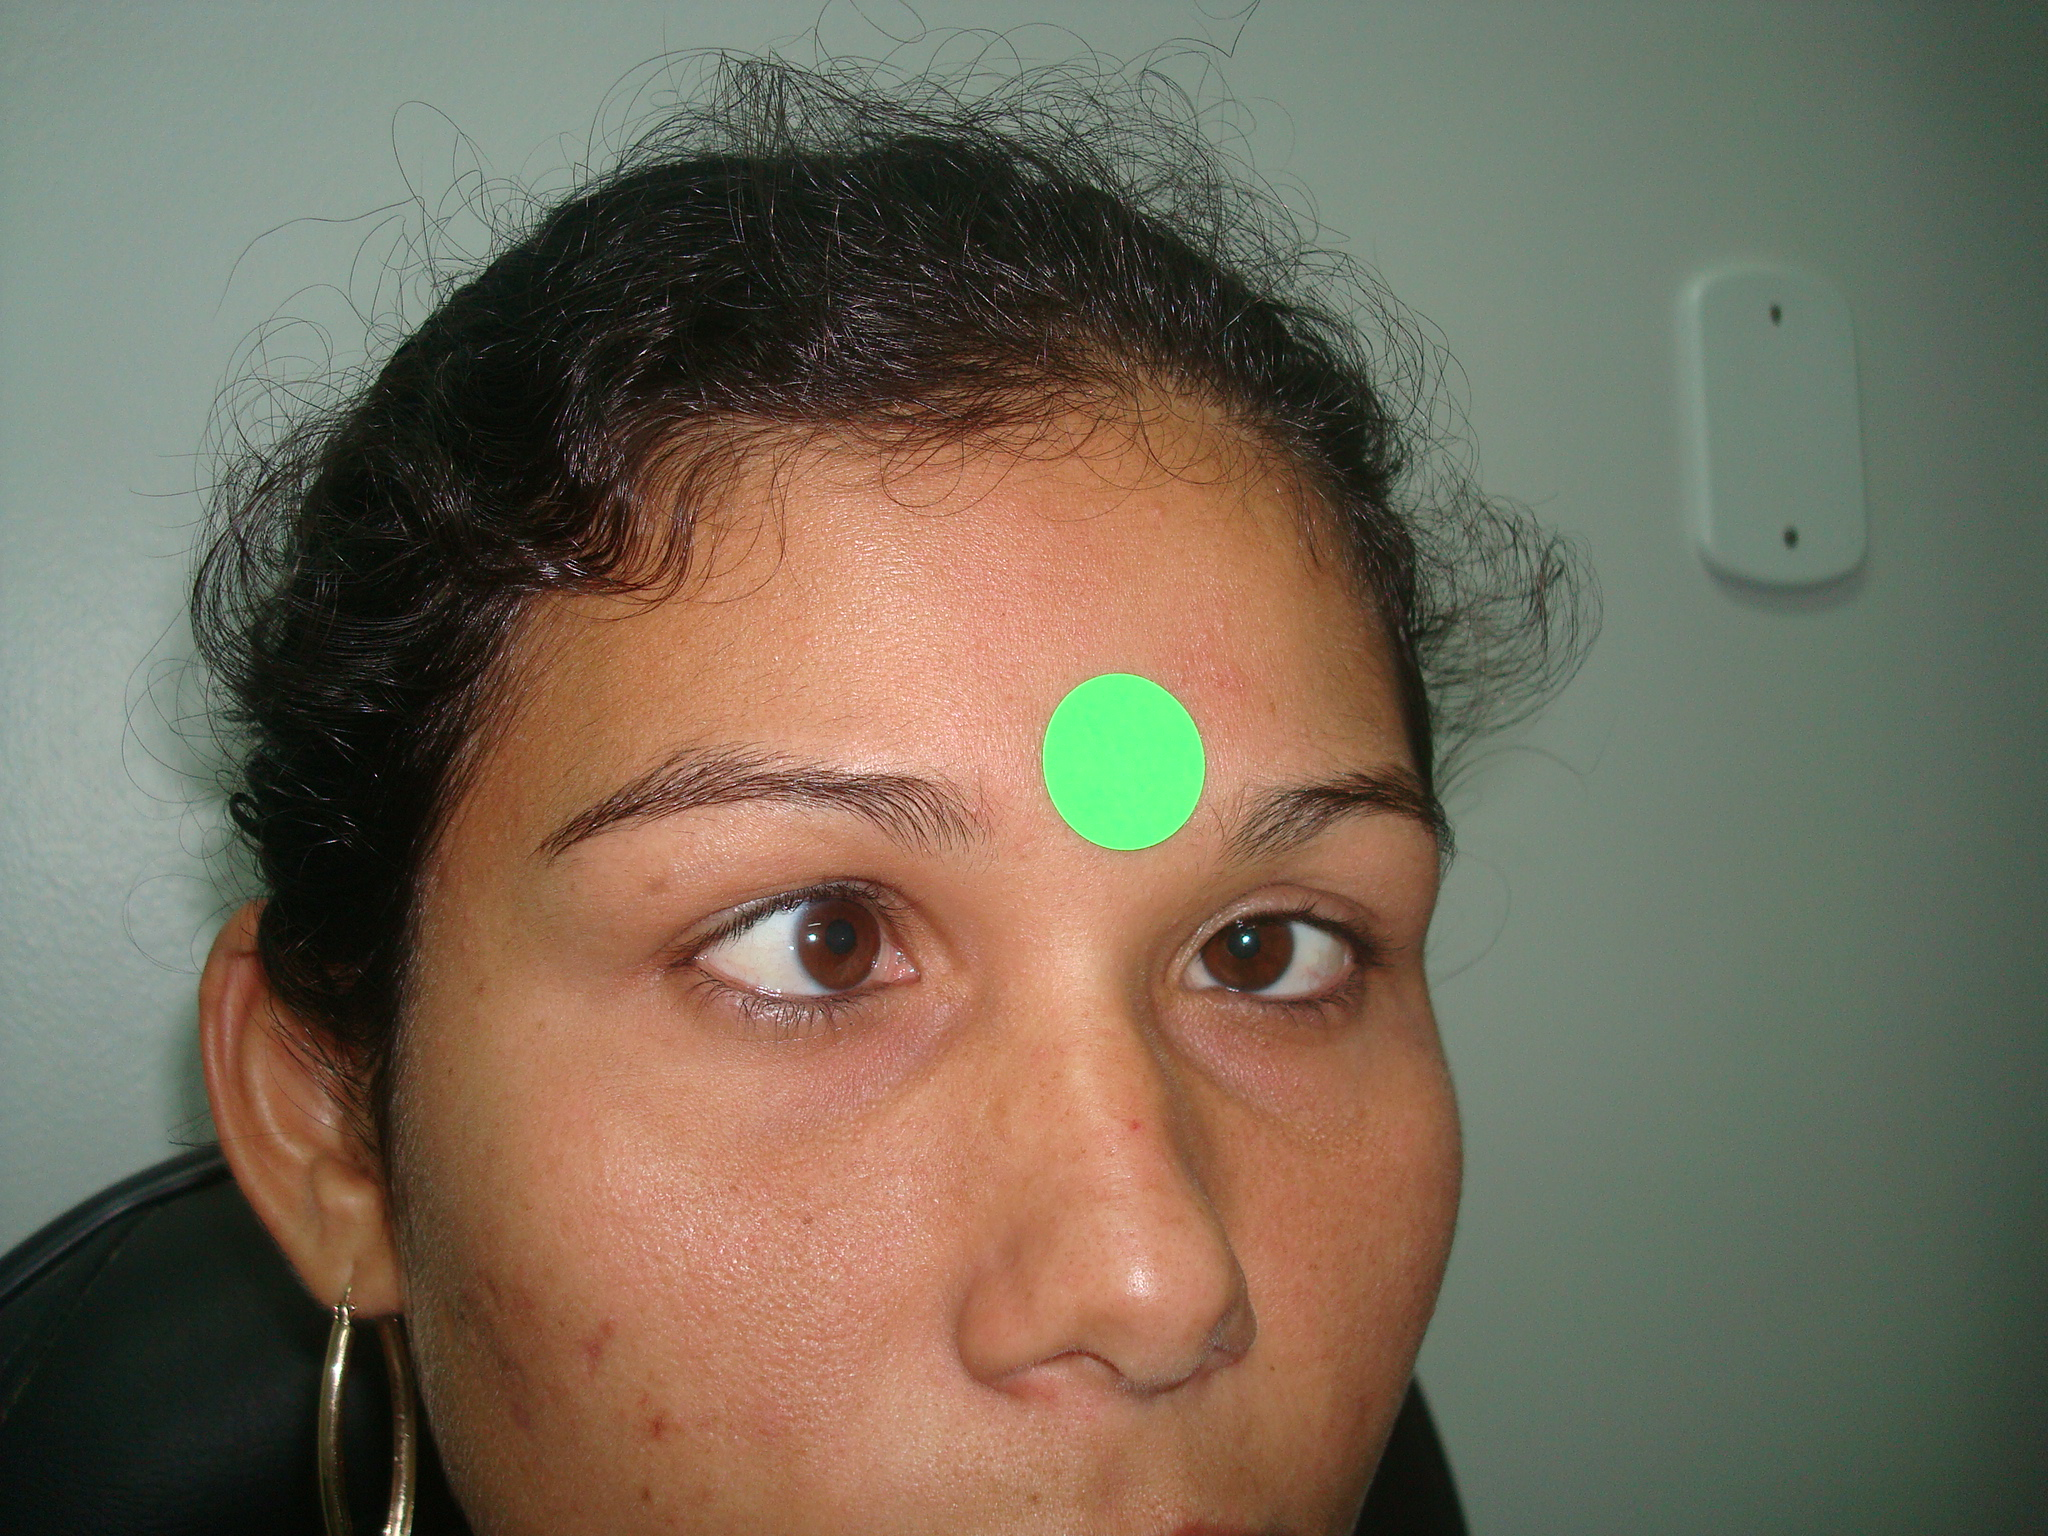flash: (1240, 933, 1251, 945), (806, 931, 818, 942)
limbo: (1197, 897, 1287, 986), (800, 897, 882, 976)
